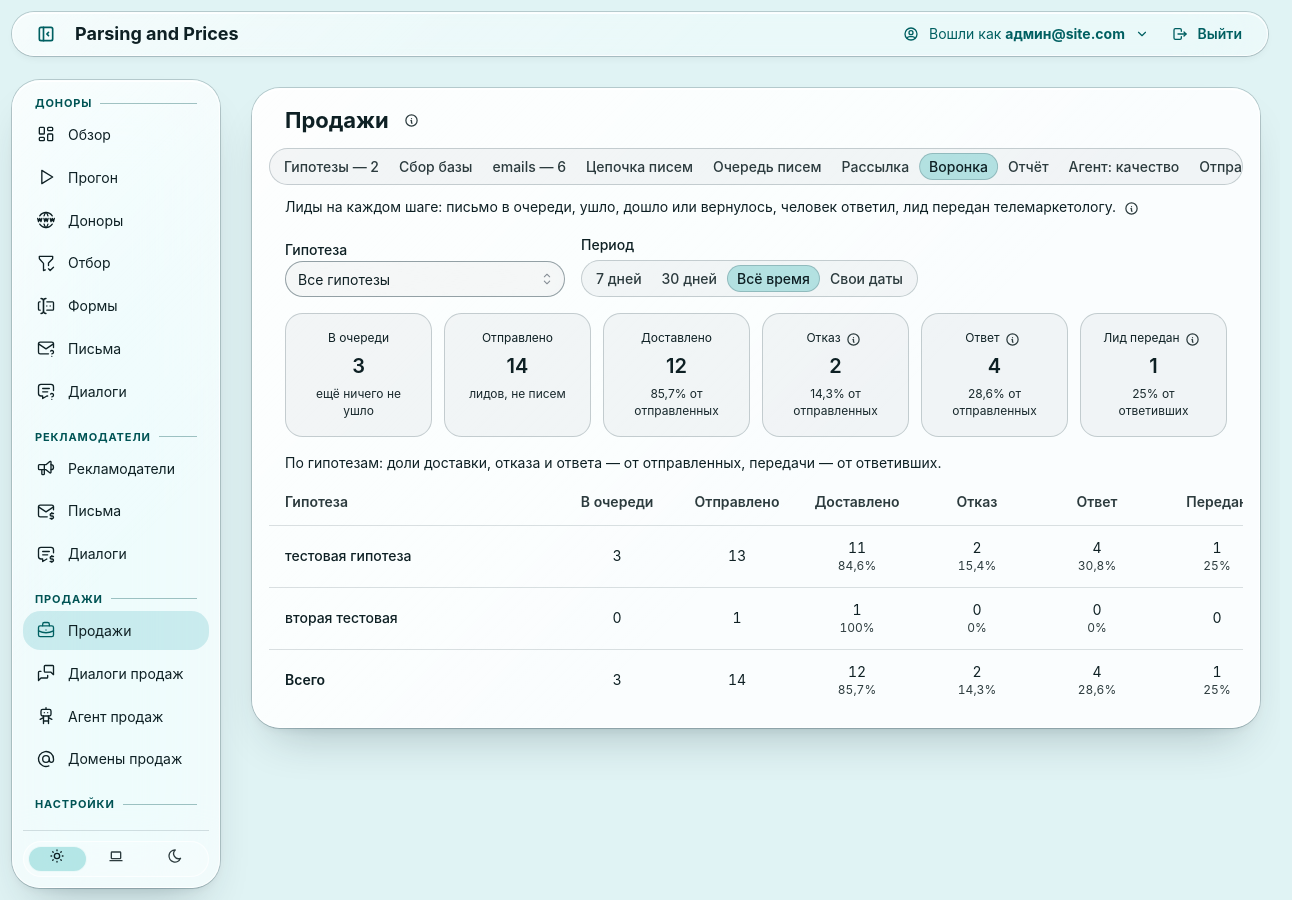
Scenario: воронка продаж › пояснения — одной строкой и в «i»: определения шагов — у подписи плитки (аудит 09.10.2026)
Expected: the text "Отправлено" is shown, top-left (482, 330), bottom-right (553, 347)
Expected: the text "Лиды на каждом шаге" is shown, top-left (285, 198), bottom-right (1116, 216)
Hover over the button named "Что значит «Ответ»".
mouse_move(1013, 339)  # box top-left (1002, 328), bottom-right (1024, 350)
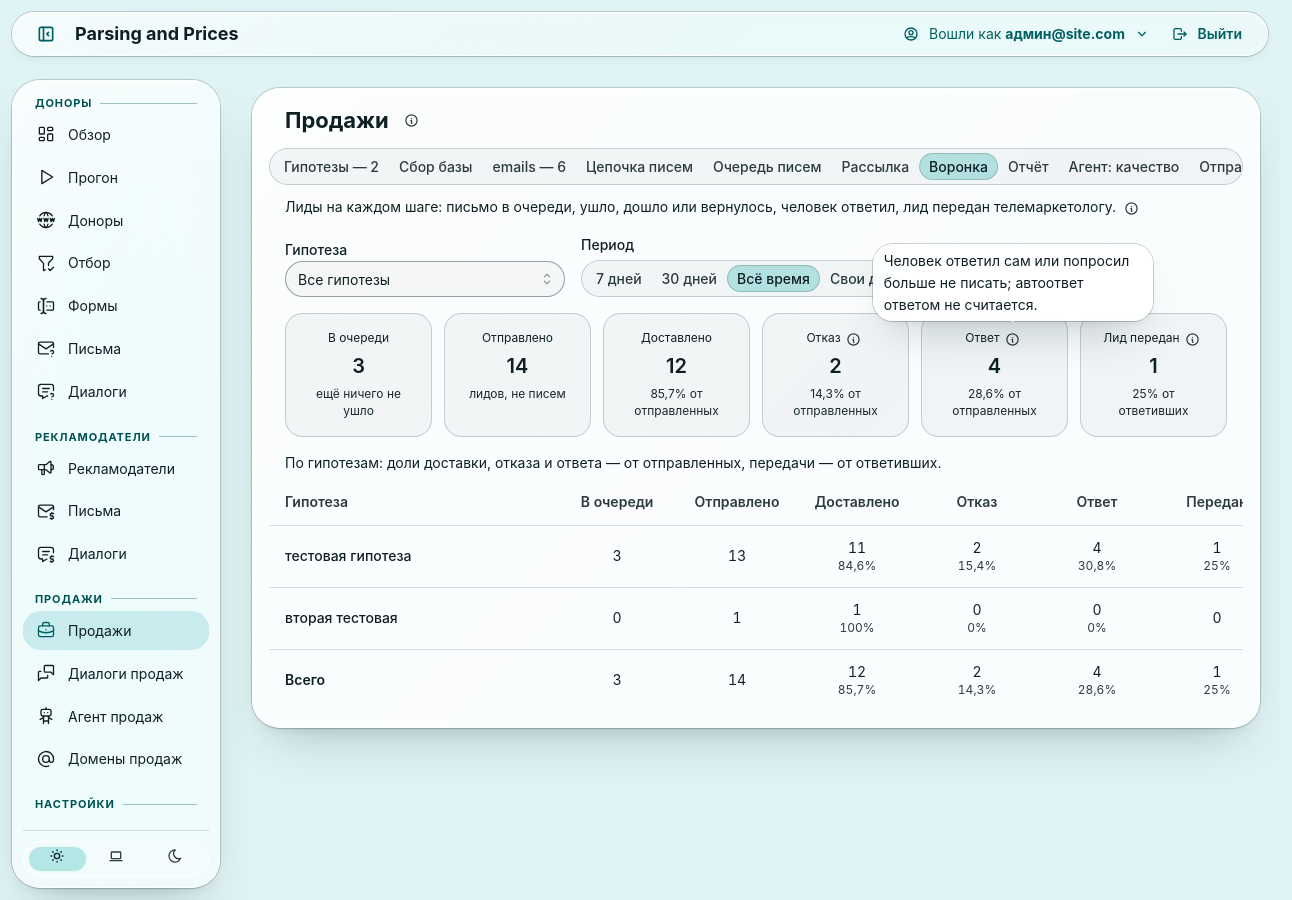
Expected: the tooltip "автоответ ответом не считается" is shown, top-left (884, 252), bottom-right (1129, 312)
Hover over the button named "Как считается воронка".
mouse_move(1131, 208)  # box top-left (1120, 198), bottom-right (1142, 220)
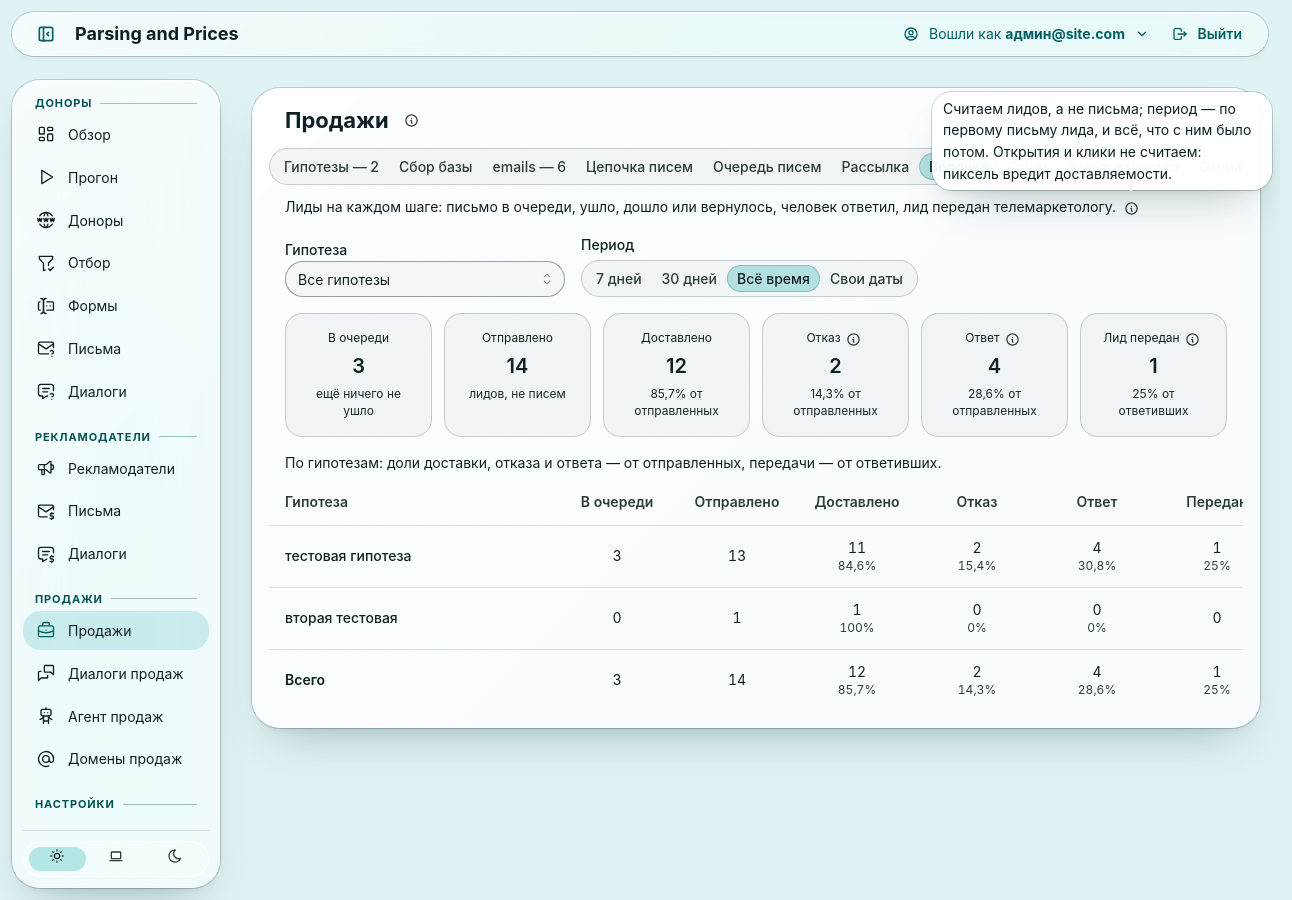
Expected: the number of buttons named "Что значит" is 3, top-left (843, 328), bottom-right (865, 350); top-left (1002, 328), bottom-right (1024, 350); top-left (1182, 328), bottom-right (1204, 350)
Expected: the tooltip "Считаем лидов, а не письма" is shown, top-left (943, 100), bottom-right (1251, 182)
